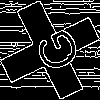G: (25, 25, 83, 80)
